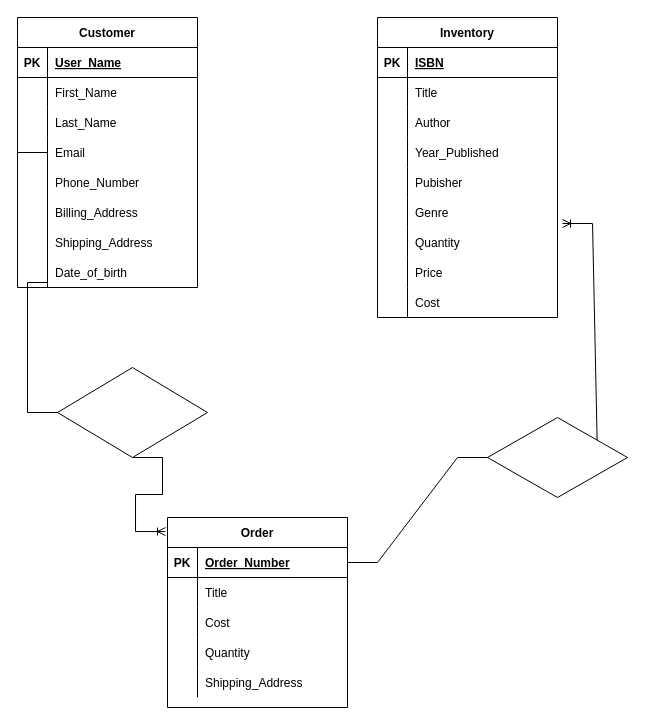
The diagram is 653 pixels wide and 725 high, and some of its shapes have lost their labels. Here are the shapes that lost their labels. From the top down, the centre of each, then its label:
At point (132, 412): "Customer may have many orders".
At point (557, 457): "An order may have many books".
